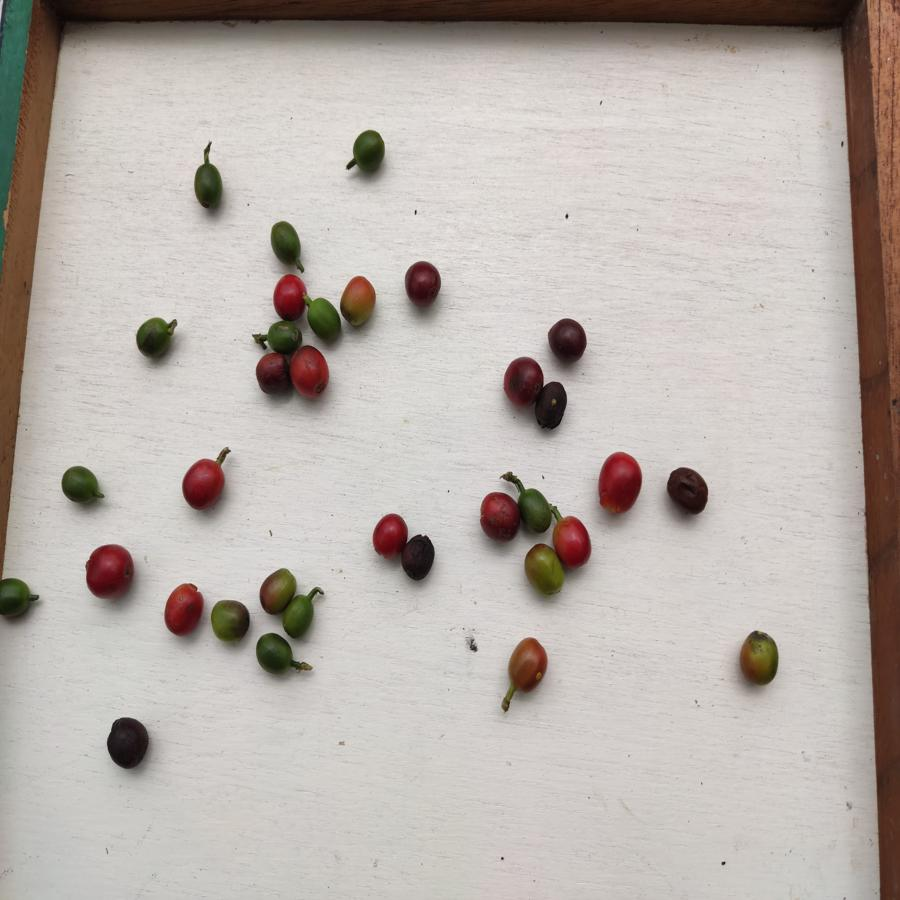Inmaduro: (349, 128, 389, 175), (59, 463, 101, 507), (305, 297, 342, 345), (1, 571, 35, 623), (255, 632, 294, 675), (192, 164, 227, 211), (135, 317, 173, 359), (282, 595, 318, 639), (269, 220, 304, 265), (518, 489, 553, 533), (267, 319, 301, 351)
Maduro: (597, 450, 647, 517), (84, 541, 134, 603), (178, 455, 230, 514), (163, 582, 205, 639), (289, 348, 334, 401), (552, 515, 593, 572), (271, 275, 306, 321), (372, 513, 407, 559)
Pinton: (506, 635, 549, 695), (739, 628, 779, 687), (521, 545, 565, 598), (210, 597, 251, 647), (258, 565, 298, 616), (341, 275, 377, 330)
Sobremaduro: (106, 713, 151, 771), (665, 465, 711, 519), (477, 492, 525, 543), (501, 357, 544, 408), (548, 315, 588, 366), (405, 258, 444, 309), (401, 533, 436, 584), (537, 381, 568, 432), (256, 353, 289, 398)
